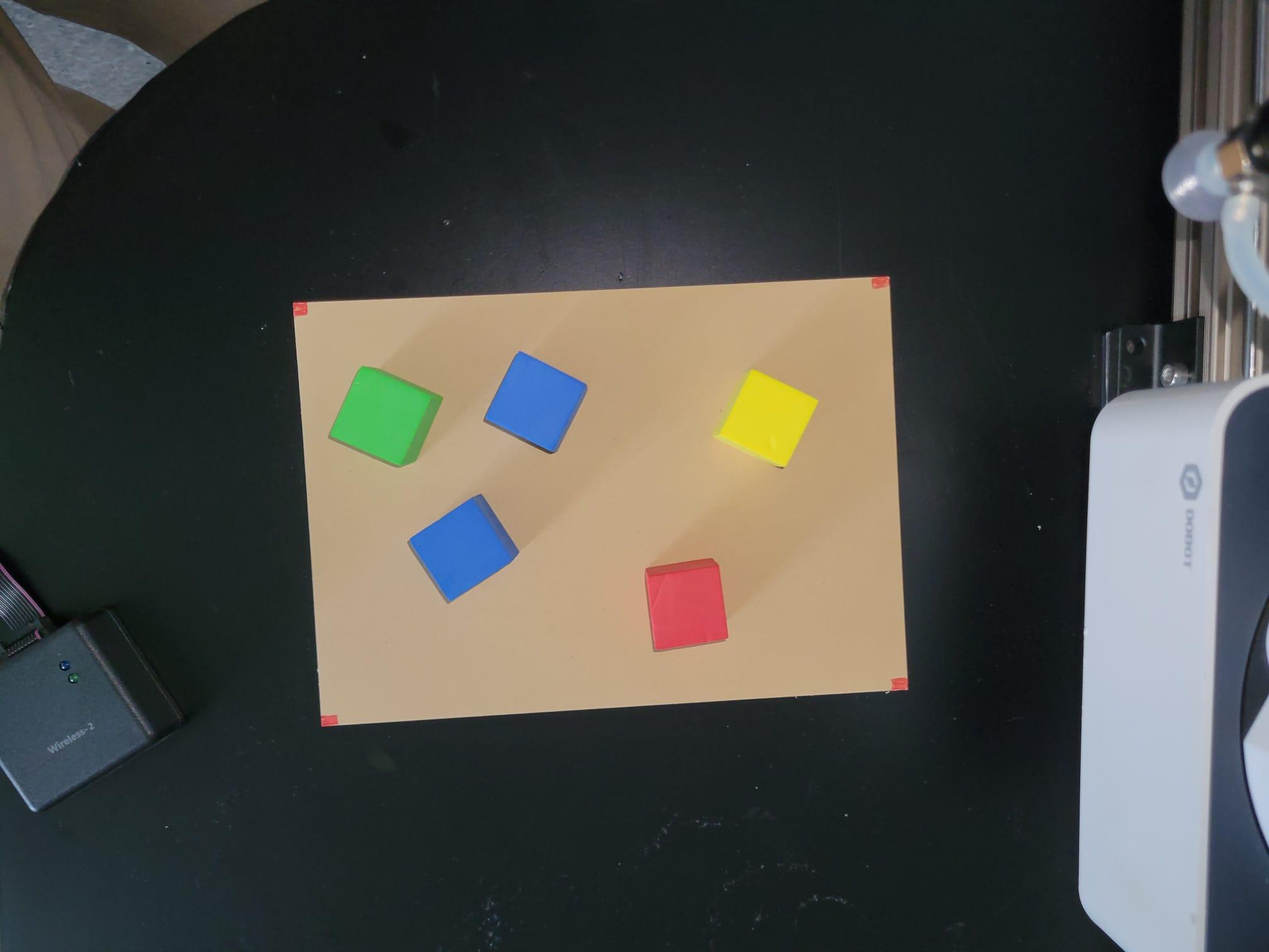cube: (407, 491, 519, 604), (330, 365, 444, 467), (481, 350, 589, 455), (718, 370, 820, 465), (641, 555, 733, 654)
